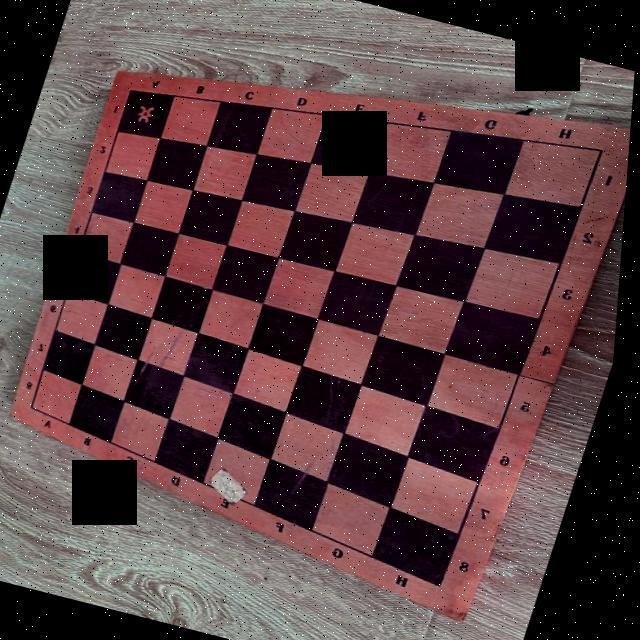chess-table-corners: (584, 136, 616, 162), (432, 572, 463, 598), (26, 398, 49, 414), (122, 81, 142, 98)
